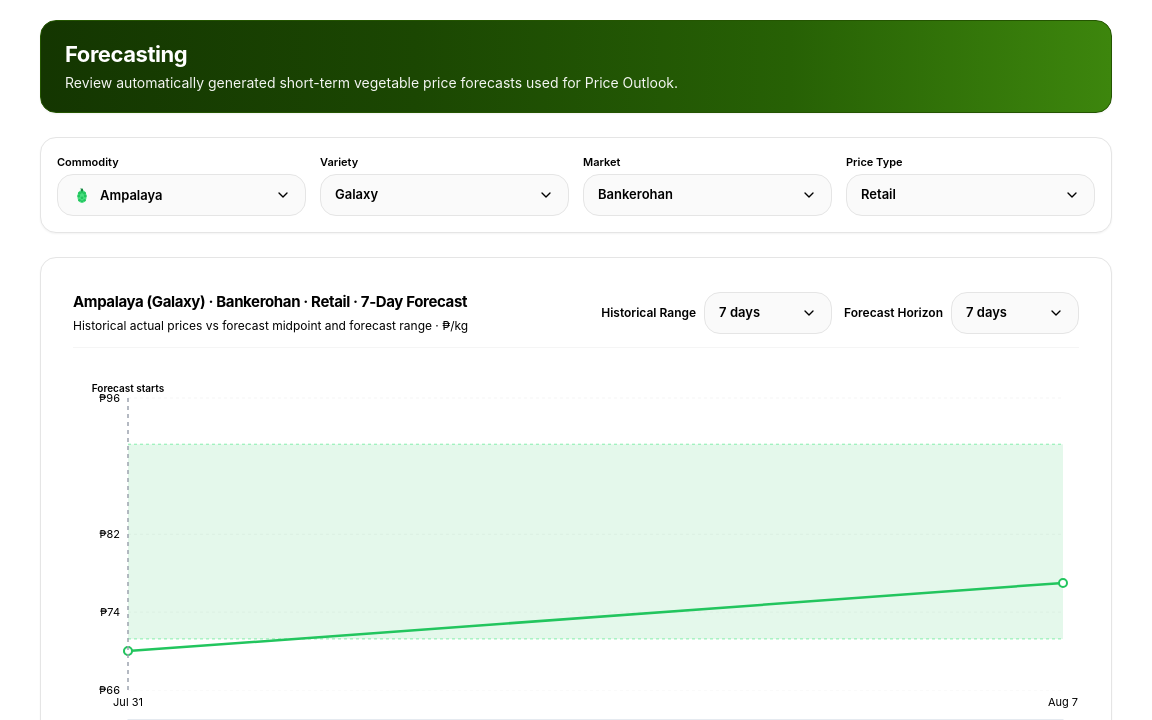
AdminForecasting graph › fills Forecast Summary from recent records and persisted interval bounds
Expected: the heading "Forecasting" is shown, x1=65 y1=41 x2=187 y2=67
Click the button "7 days" next to "Forecast Horizon": [1015, 313] box x1=951 y1=292 x2=1079 y2=334
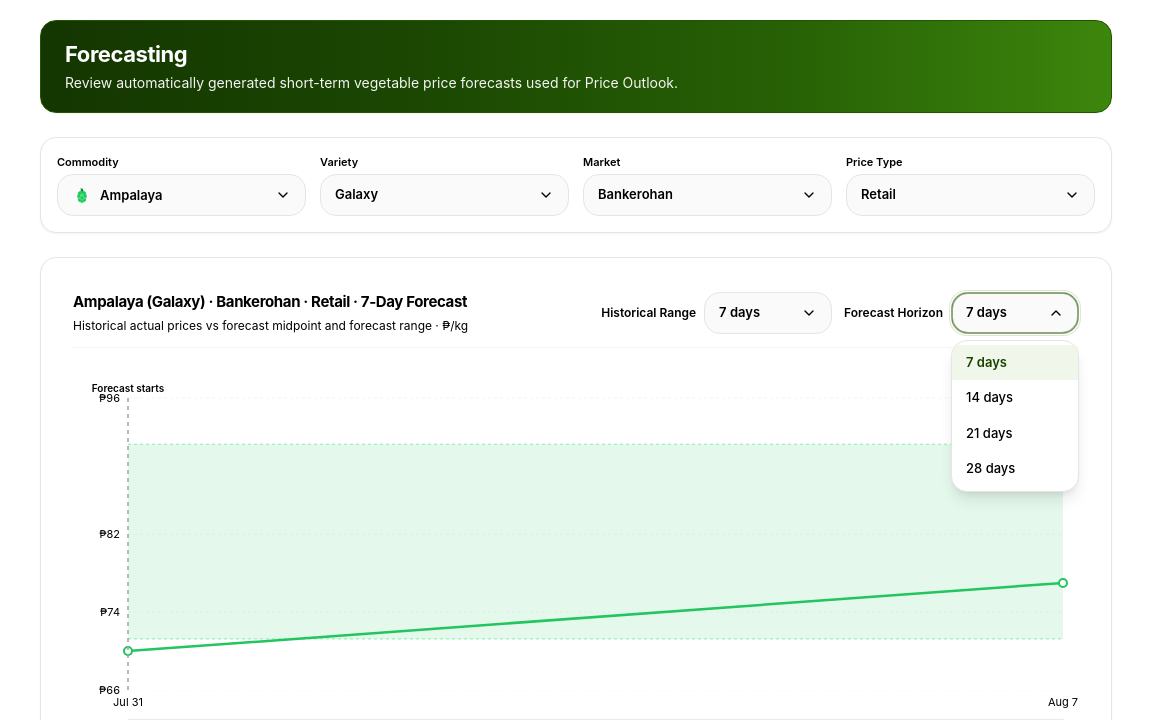
Click the button "14 days": [1015, 398] box x1=952 y1=380 x2=1078 y2=416
(page scrolled)
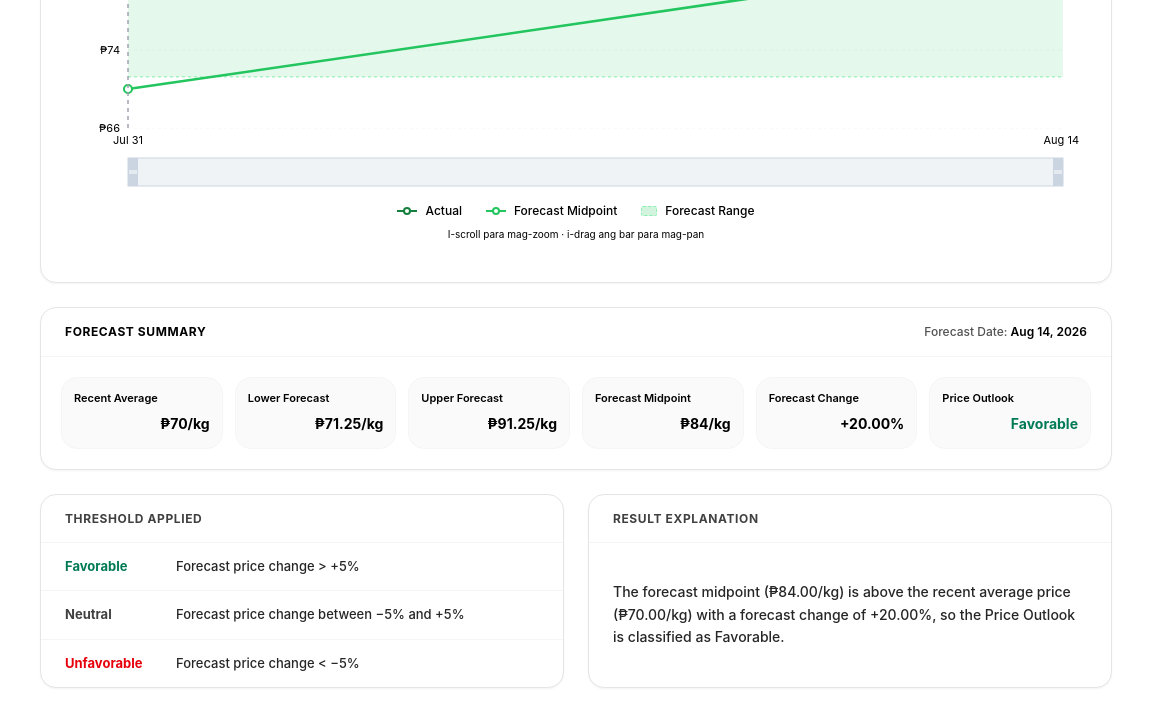
Result: the text "The forecast midpoint (₱84.00/kg) is above the recent average price (₱70.00/kg) with a forecast change of +20.00%, so th" is shown at x1=613 y1=583 x2=1075 y2=645
